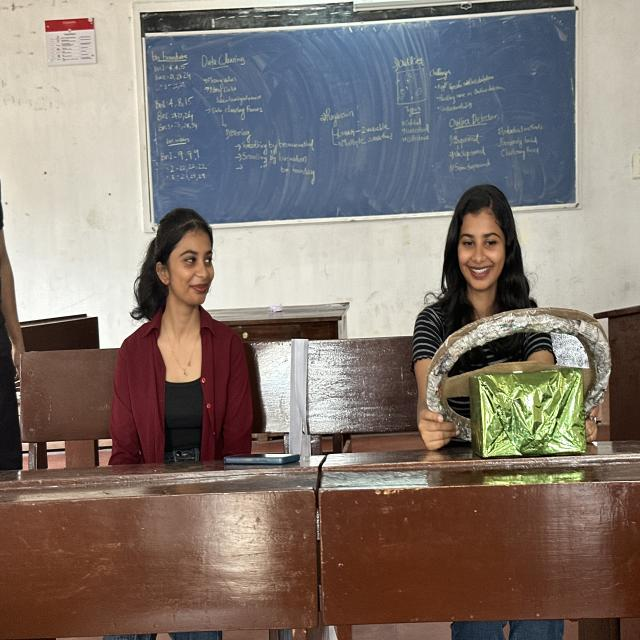no-seatbelt: (410, 284, 601, 483), (97, 286, 283, 482)
